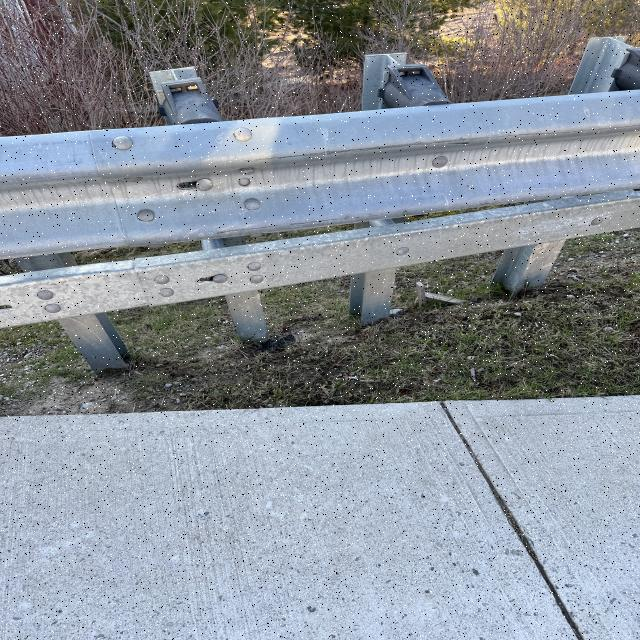Guard rail: (23, 97, 634, 296)
